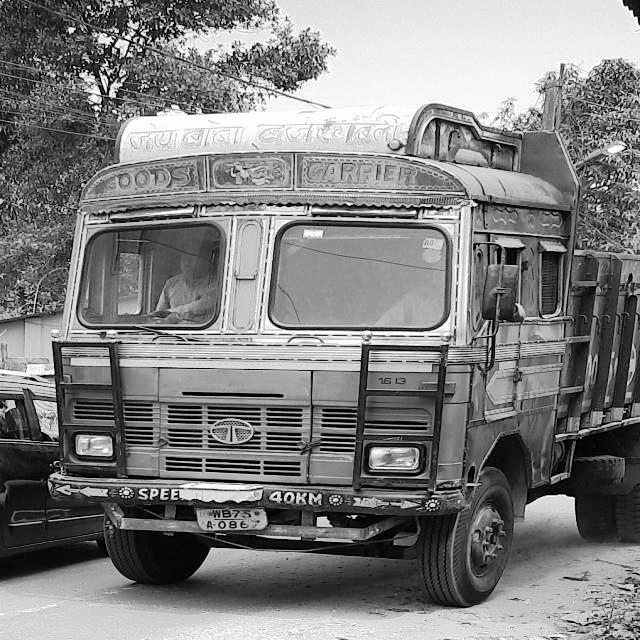HCV: (65, 126, 571, 624)
